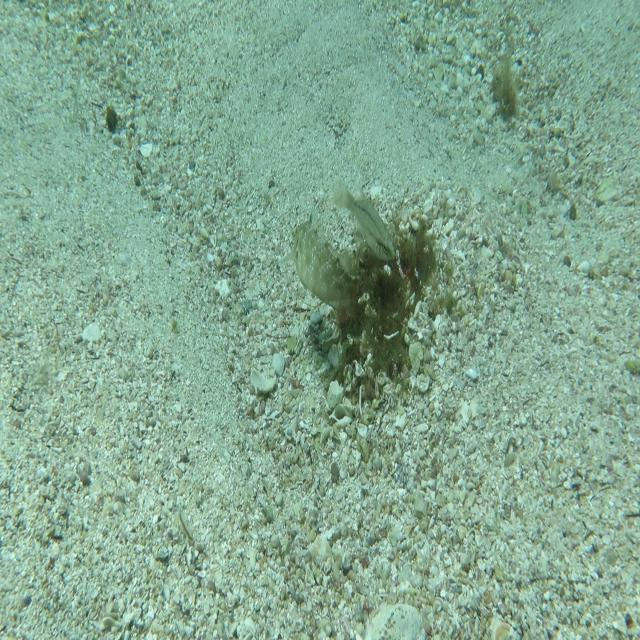DAN_CIRC: (280, 197, 361, 316)
female: (331, 182, 398, 264)
nest: (309, 199, 447, 415)
